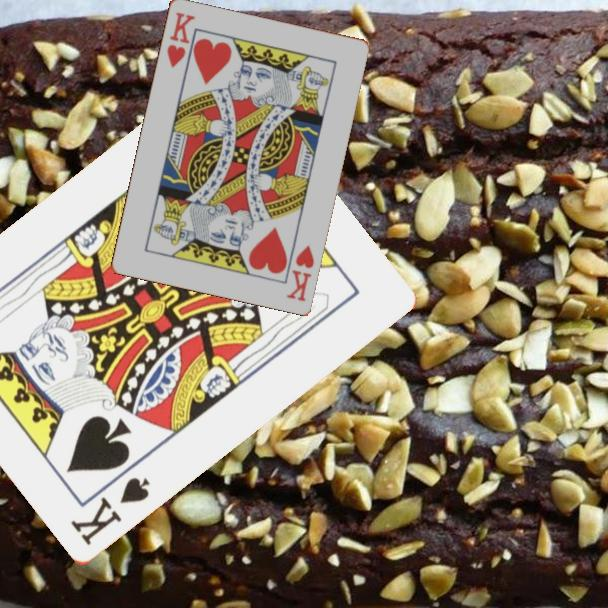h13: (163, 8, 198, 71), (283, 241, 317, 304)
s13: (66, 474, 153, 549)
